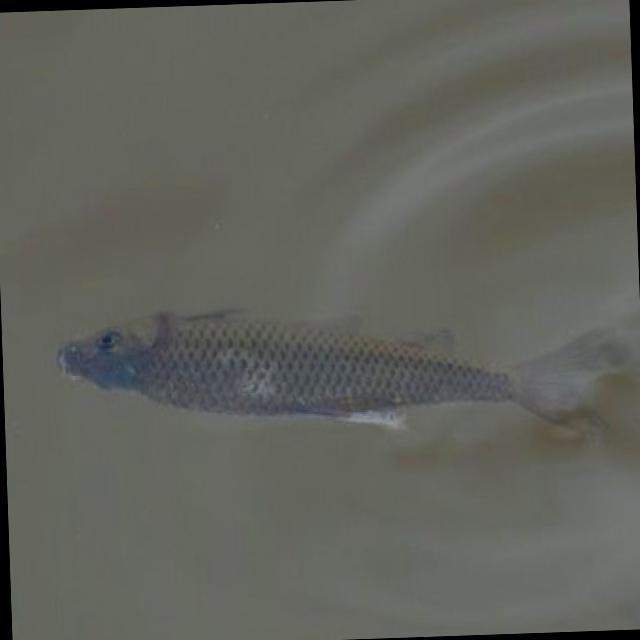Cakil Baligi: (51, 283, 640, 486)
